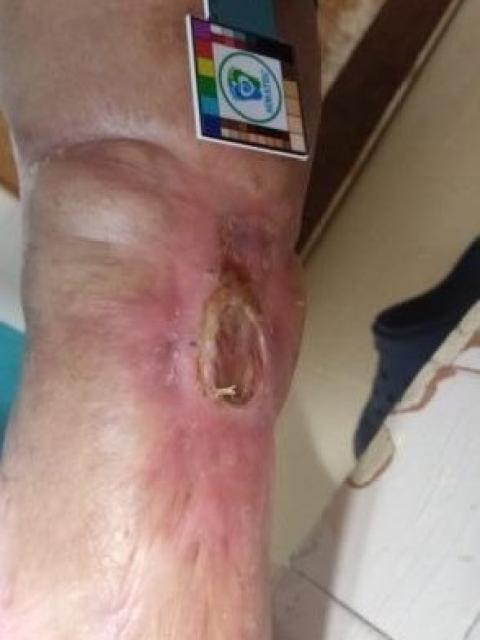wound: (198, 211, 273, 412)
